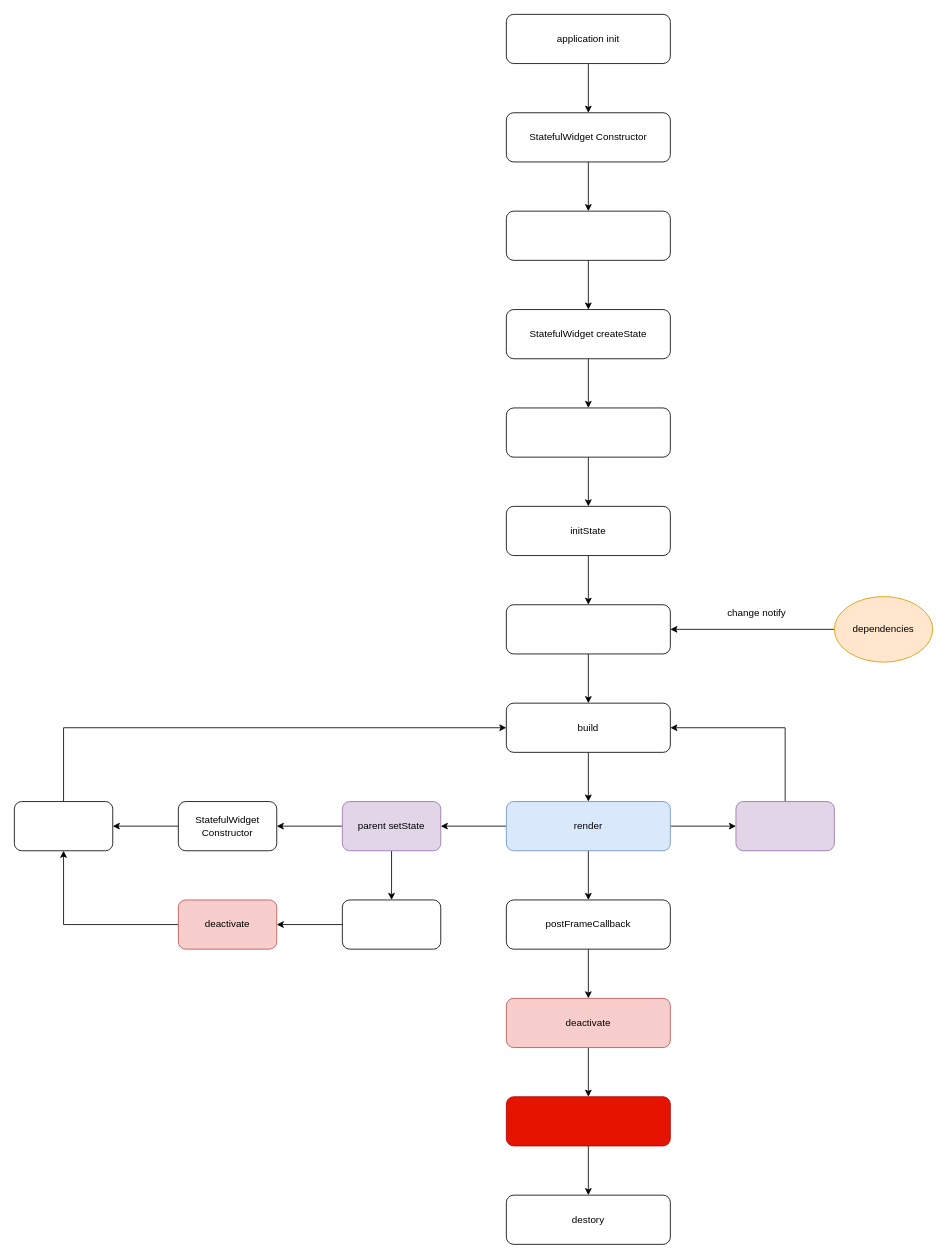
Image size: 947x1259. Some labels were removed from this diagram. Here are the shapes that lost their labels. From the top down, the centre of each, then its label:
At pixel 588 235: "StatefulWidget createElement".
At pixel 588 432: "State Constructor".
At pixel 588 629: "didChangeDependencies".
At pixel 63 826: "didUpdate".
At pixel 784 826: "self setState".
At pixel 391 924: "move position in tree".
At pixel 588 1121: "dispose".
